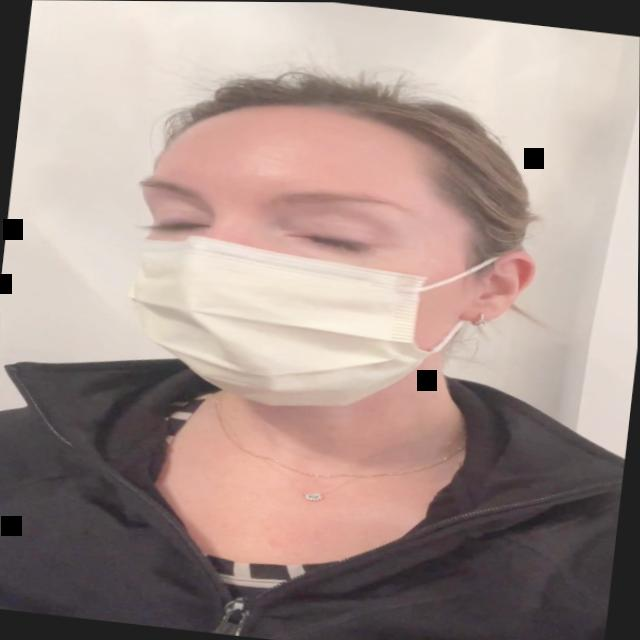Mask: (112, 93, 525, 431)
